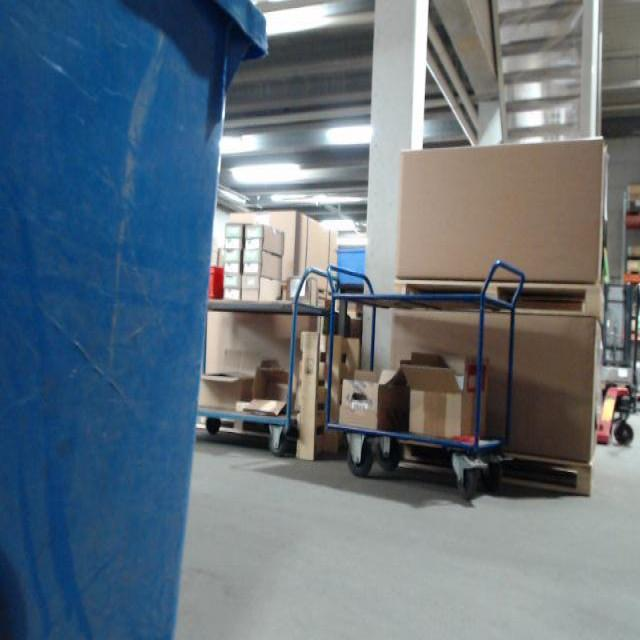pallet: (392, 277, 612, 325), (295, 331, 366, 458), (503, 451, 604, 498)
pallet_truck: (593, 276, 639, 455)
small_load_carrier: (206, 265, 226, 298)
